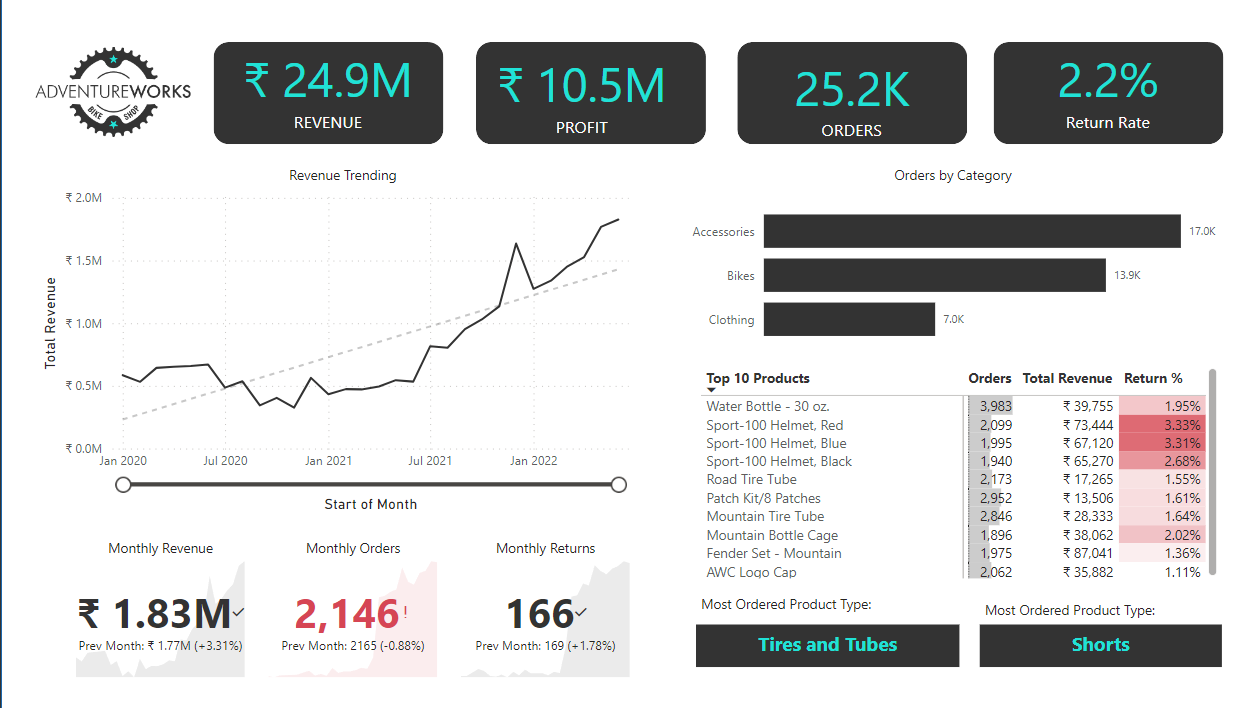

This screenshot's page, from the dashboard's own definition file:
{"tool":"powerbi","page":{"name":"Exec Dashboard","canvas":[1280,720],"ordinal":0},"visuals":[{"type":"shape","title":"Left Nav Background","box":[0,0,45,720],"z":0},{"type":"card","fields":{"Values":["Measure Table.Total Revenue"]},"box":[266.2,40,195,108.8],"z":0,"group":"g2"},{"type":"group","id":"g1","title":"KPI Background","box":[251.2,48.8,987.5,100],"z":0,"group":"g3"},{"type":"shape","box":[251.2,48.8,225,100],"z":0,"group":"g1"},{"type":"actionButton","box":[0,421.7,45.2,40.3],"z":0,"group":"g4"},{"type":"image","title":"AW Logo","box":[56.2,26.2,195,143.8],"z":1000},{"type":"group","id":"g2","title":"KPI Values","box":[266.2,40,957.5,117.5],"z":1000,"group":"g3"},{"type":"card","fields":{"Values":["Measure Table.Total Profit"]},"box":[515,45,195,108.8],"z":1000,"group":"g2"},{"type":"shape","box":[507.4,48.8,225,100],"z":1000,"group":"g1"},{"type":"actionButton","box":[0,421.7,45.2,40.3],"z":1000,"group":"g4"},{"type":"group","id":"g3","title":"KPIs","box":[251.2,40,987.5,117.5],"z":2000},{"type":"shape","box":[763.7,48.8,225,100],"z":2000,"group":"g1"},{"type":"card","fields":{"Values":["Measure Table.Total Orders"]},"box":[778.7,48.8,195,108.8],"z":2000,"group":"g2"},{"type":"actionButton","box":[0,548,45.2,40.3],"z":2000,"group":"g4"},{"type":"card","fields":{"Values":["Measure Table.Return Rate"]},"box":[1028.7,40,195,108.8],"z":3000,"group":"g2"},{"type":"shape","box":[1013.7,48.8,225,100],"z":3000,"group":"g1"},{"type":"lineChart","title":"Revenue Trending","fields":{"Category":["Calendar Lookup.Year","Calendar Lookup.Start of Quarter","Calendar Lookup.Start of Month"],"Y":["Measure Table.Total Revenue"]},"box":[80,170,597.5,343.8],"z":3000},{"type":"actionButton","box":[0,548,45.2,40.3],"z":3000,"group":"g4"},{"type":"actionButton","box":[0,484.9,45.2,40.3],"z":4000,"group":"g4"},{"type":"kpi","title":"Monthly Revenue","fields":{"Indicator":["Measure Table.Total Revenue"],"TrendLine":["Calendar Lookup.Start of Month"],"Goal":["Measure Table.Previous Month Revenue"]},"box":[112.5,533.8,175,141.2],"z":4000},{"type":"actionButton","box":[0,484.9,45.2,40.3],"z":5000,"group":"g4"},{"type":"kpi","title":"Monthly Returns","fields":{"TrendLine":["Calendar Lookup.Start of Month"],"Indicator":["Measure Table.Total Returns"],"Goal":["Measure Table.Previous Month Returns"]},"box":[488.8,533.8,175,141.2],"z":5000},{"type":"kpi","title":"Monthly Orders","fields":{"TrendLine":["Calendar Lookup.Start of Month"],"Indicator":["Measure Table.Total Orders"],"Goal":["Measure Table.Previous Month Order"]},"box":[301.2,533.8,175,141.2],"z":6000},{"type":"actionButton","box":[0,611.2,45.2,40.3],"z":6000,"group":"g4"},{"type":"clusteredBarChart","title":"Orders by Category","fields":{"Category":["Product Categories Lookup.CategoryName"],"Y":["Measure Table.Total Orders"]},"box":[710.2,169.9,529.3,190.7],"z":7000},{"type":"actionButton","box":[0,611.2,45.2,40.3],"z":7000,"group":"g4"},{"type":"pivotTable","fields":{"Rows":["Product Lookup.ProductName"],"Values":["Measure Table.Total Orders","Measure Table.Total Revenue","Measure Table.Return Rate"]},"box":[723.7,363.1,514.6,215.1],"z":8000},{"type":"card","fields":{"Values":["Min(Product Subcategories Lookup.SubcategoryName)"]},"box":[723.7,618.5,257.9,41.6],"z":9000},{"type":"textbox","box":[723.7,584.3,193.1,40.3],"z":10000},{"type":"card","fields":{"Values":["Min(Product Subcategories Lookup.SubcategoryName)"]},"box":[1001.2,618.5,237.1,41.6],"z":11000},{"type":"textbox","box":[1001.2,590.4,190.7,34.2],"z":12000},{"type":"actionButton","box":[4.9,8.6,35.4,40.3],"z":13000},{"type":"group","id":"g4","title":"Navigation Buttons","box":[0,421.7,45.2,229.8],"z":14000},{"type":"actionButton","box":[0,58.7,45.2,40.3],"z":15000}]}

Visuals, with their boxes in screenshot pixels (x1, y1, x2, y2), scaled from the page's 1280x720 canvas onto the 1260x708 screenshot:
"Left Nav Background" shape: [left=0, top=0, right=44, bottom=707]
card - Measure Table.Total Revenue: [left=262, top=39, right=454, bottom=146]
"KPI Background" group: [left=247, top=48, right=1219, bottom=146]
shape: [left=247, top=48, right=469, bottom=146]
actionButton: [left=0, top=415, right=44, bottom=454]
"AW Logo" image: [left=55, top=26, right=247, bottom=167]
"KPI Values" group: [left=262, top=39, right=1205, bottom=155]
card - Measure Table.Total Profit: [left=507, top=44, right=699, bottom=151]
shape: [left=499, top=48, right=721, bottom=146]
actionButton: [left=0, top=415, right=44, bottom=454]
"KPIs" group: [left=247, top=39, right=1219, bottom=155]
shape: [left=752, top=48, right=973, bottom=146]
card - Measure Table.Total Orders: [left=767, top=48, right=958, bottom=155]
actionButton: [left=0, top=539, right=44, bottom=578]
card - Measure Table.Return Rate: [left=1013, top=39, right=1205, bottom=146]
shape: [left=998, top=48, right=1219, bottom=146]
"Revenue Trending" lineChart: [left=79, top=167, right=667, bottom=505]
actionButton: [left=0, top=539, right=44, bottom=578]
actionButton: [left=0, top=477, right=44, bottom=516]
"Monthly Revenue" kpi: [left=111, top=525, right=283, bottom=664]
actionButton: [left=0, top=477, right=44, bottom=516]
"Monthly Returns" kpi: [left=481, top=525, right=653, bottom=664]
"Monthly Orders" kpi: [left=296, top=525, right=469, bottom=664]
actionButton: [left=0, top=601, right=44, bottom=641]
"Orders by Category" clusteredBarChart: [left=699, top=167, right=1220, bottom=355]
actionButton: [left=0, top=601, right=44, bottom=641]
pivotTable - Product Lookup.ProductName x Measure Table.Total Orders: [left=712, top=357, right=1219, bottom=569]
card - Min(Product Subcategories Lookup.SubcategoryName): [left=712, top=608, right=966, bottom=649]
textbox: [left=712, top=575, right=902, bottom=614]
card - Min(Product Subcategories Lookup.SubcategoryName): [left=986, top=608, right=1219, bottom=649]
textbox: [left=986, top=581, right=1173, bottom=614]
actionButton: [left=5, top=8, right=40, bottom=48]
"Navigation Buttons" group: [left=0, top=415, right=44, bottom=641]
actionButton: [left=0, top=58, right=44, bottom=97]
